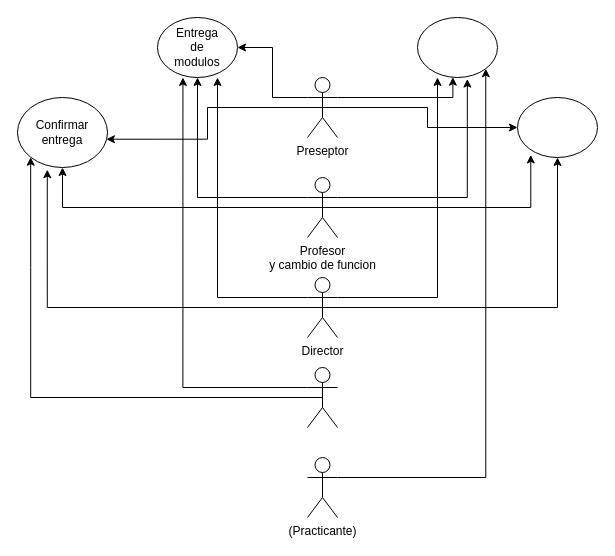
Some shapes in this 615 by 556 pixel diagram are drawn without their labels. The shapes that lost their labels are listed below. From the top down, each one's centre as x and y in pixels, then its label:
the point at 457,47: Añadir Alumnos
the point at 557,127: Ver datos
the point at 322,397: Auxiliar
